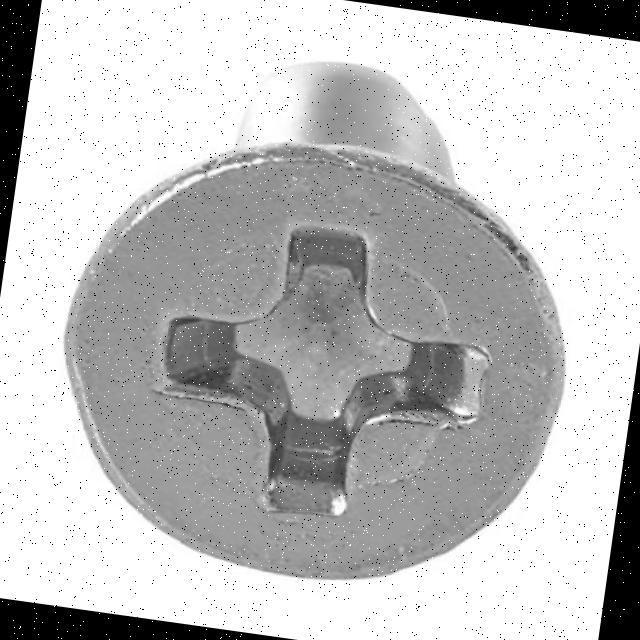Phillips: (37, 116, 590, 610)
